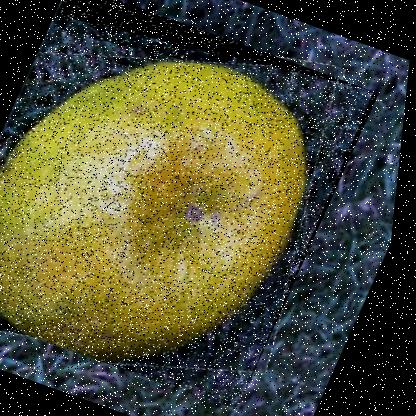orange: (0, 0, 389, 410)
